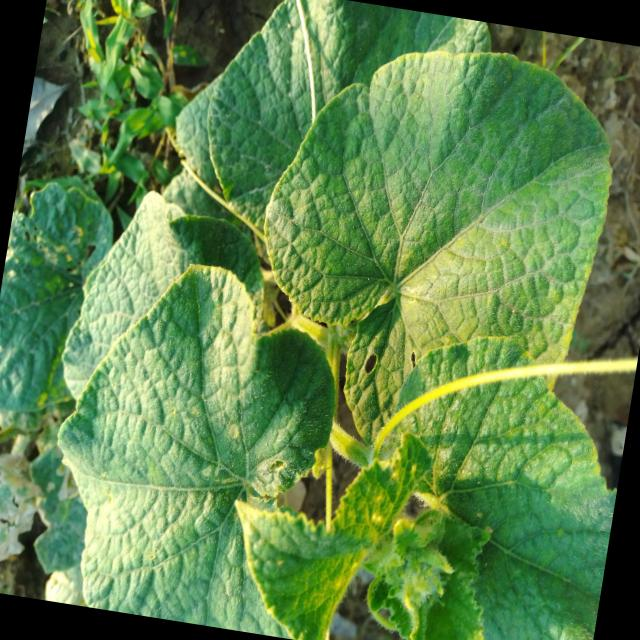cucumber_healthy: (230, 14, 636, 470), (29, 237, 358, 640), (358, 310, 640, 640), (211, 431, 408, 640), (0, 165, 122, 440), (352, 487, 503, 640)
